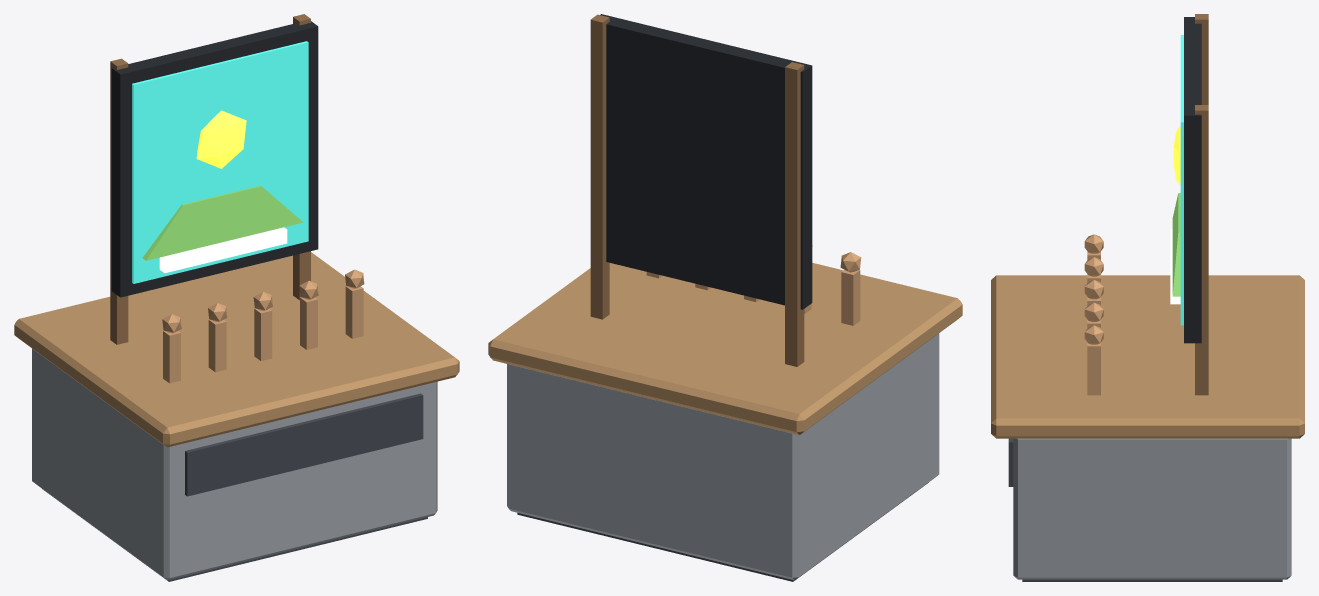
The model's file is poster_p0_3.glb.
3 views of the same model, side by side, from view 1: azimuth 30°, elevation 25°; view 2: azimuth 150°, elevation 25°; view 3: azimuth 270°, elevation 25° (orthographic). The views are drawn at different scales.
Visible parts, largest first — view 1: poster_p0_3_mesh_Desk, poster_p0_3_mesh; view 2: poster_p0_3_mesh_Desk, poster_p0_3_mesh; view 3: poster_p0_3_mesh_Desk, poster_p0_3_mesh.
Part boxes in pixels (box(x1,y1,x2,y2)): poster_p0_3_mesh_Desk: box(14, 252, 459, 581); poster_p0_3_mesh: box(110, 14, 364, 383); poster_p0_3_mesh_Desk: box(488, 263, 962, 581); poster_p0_3_mesh: box(590, 14, 861, 366); poster_p0_3_mesh_Desk: box(991, 275, 1304, 581); poster_p0_3_mesh: box(1084, 14, 1208, 395).
Size of the model in its own units: 0.78 by 1.12 by 0.7.
